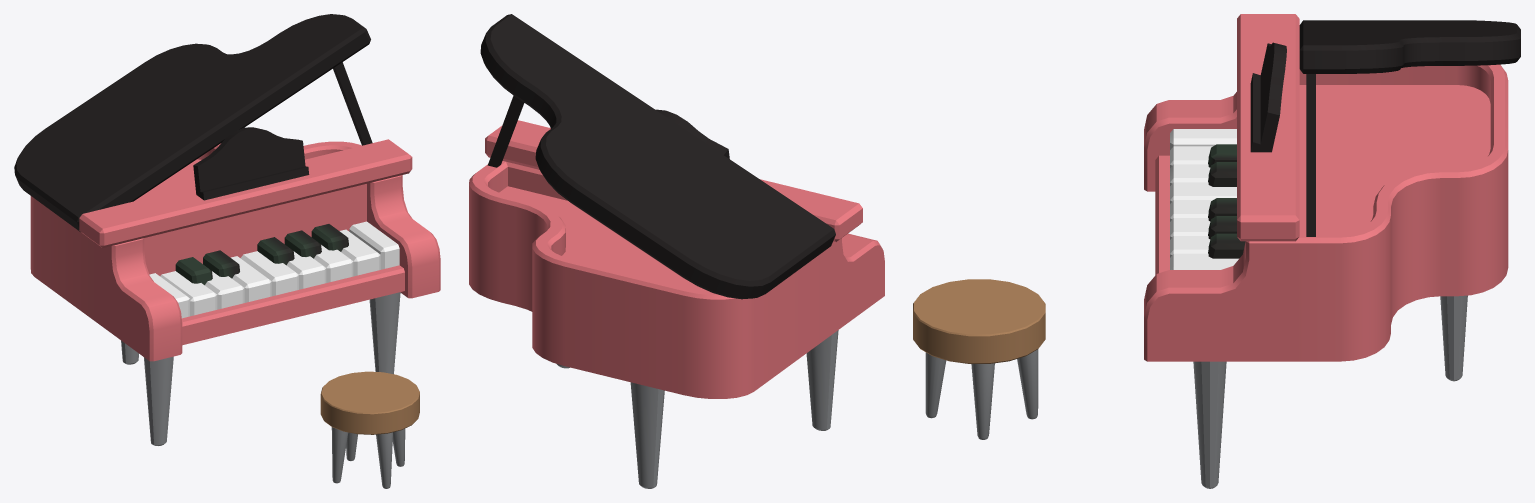
File: Piano with seat.fbx
The picture shows the model from 3 angles, left to right: view 1: azimuth 30°, elevation 25°; view 2: azimuth 150°, elevation 25°; view 3: azimuth 270°, elevation 25°; orthographic projection. The views are drawn at different scales.
Parts seen in each view (by area): view 1: Piano, Seat; view 2: Piano; view 3: Piano, Seat.
Boxes of the visible parts, bbox=[...] form: Piano: bbox=[14, 14, 440, 445]; Seat: bbox=[320, 371, 419, 488]; Piano: bbox=[469, 14, 884, 488]; Piano: bbox=[1144, 14, 1520, 488]; Seat: bbox=[913, 279, 1045, 439].
Bounding box in the file's own units: 138 × 141 × 173.
